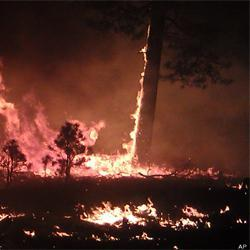fire: (19, 122, 56, 171), (91, 206, 156, 224), (81, 154, 134, 172), (133, 92, 141, 151)
